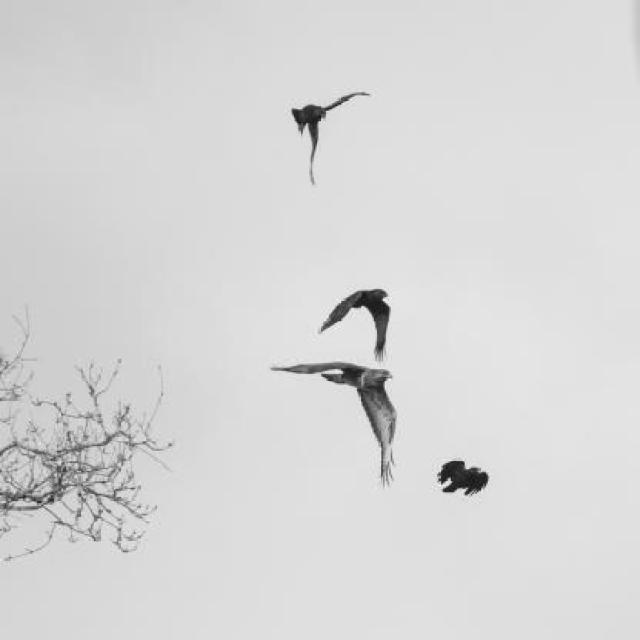bird: (272, 363, 394, 485), (292, 90, 372, 184), (322, 286, 389, 365), (438, 458, 488, 502)
